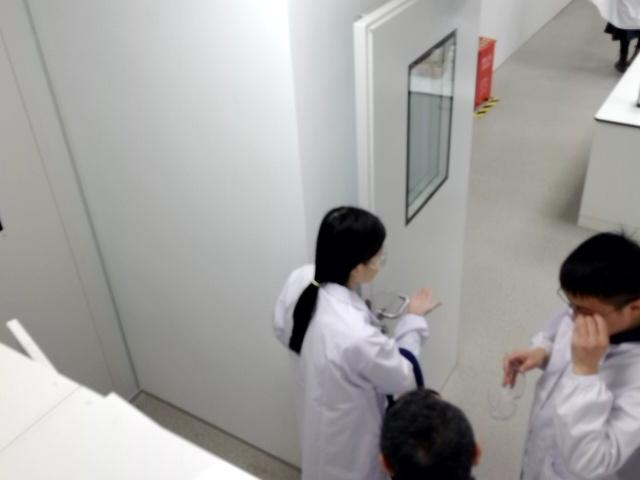Lab_coat: (274, 206, 438, 479), (503, 233, 639, 479)
